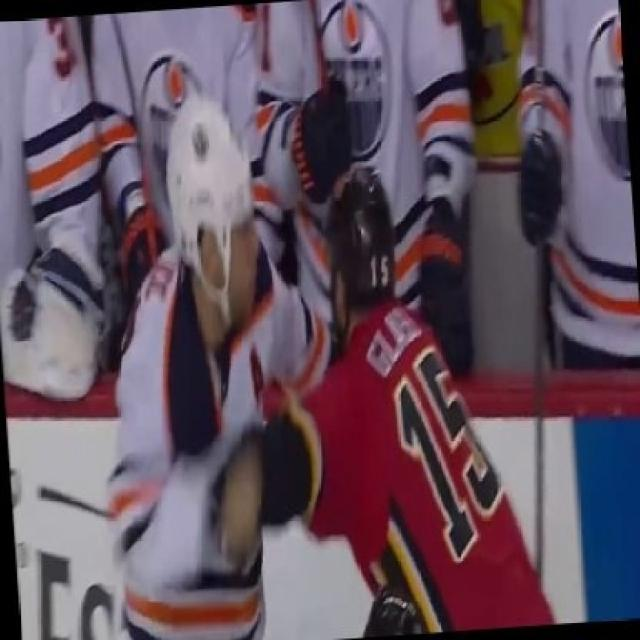fight: (99, 87, 560, 637)
